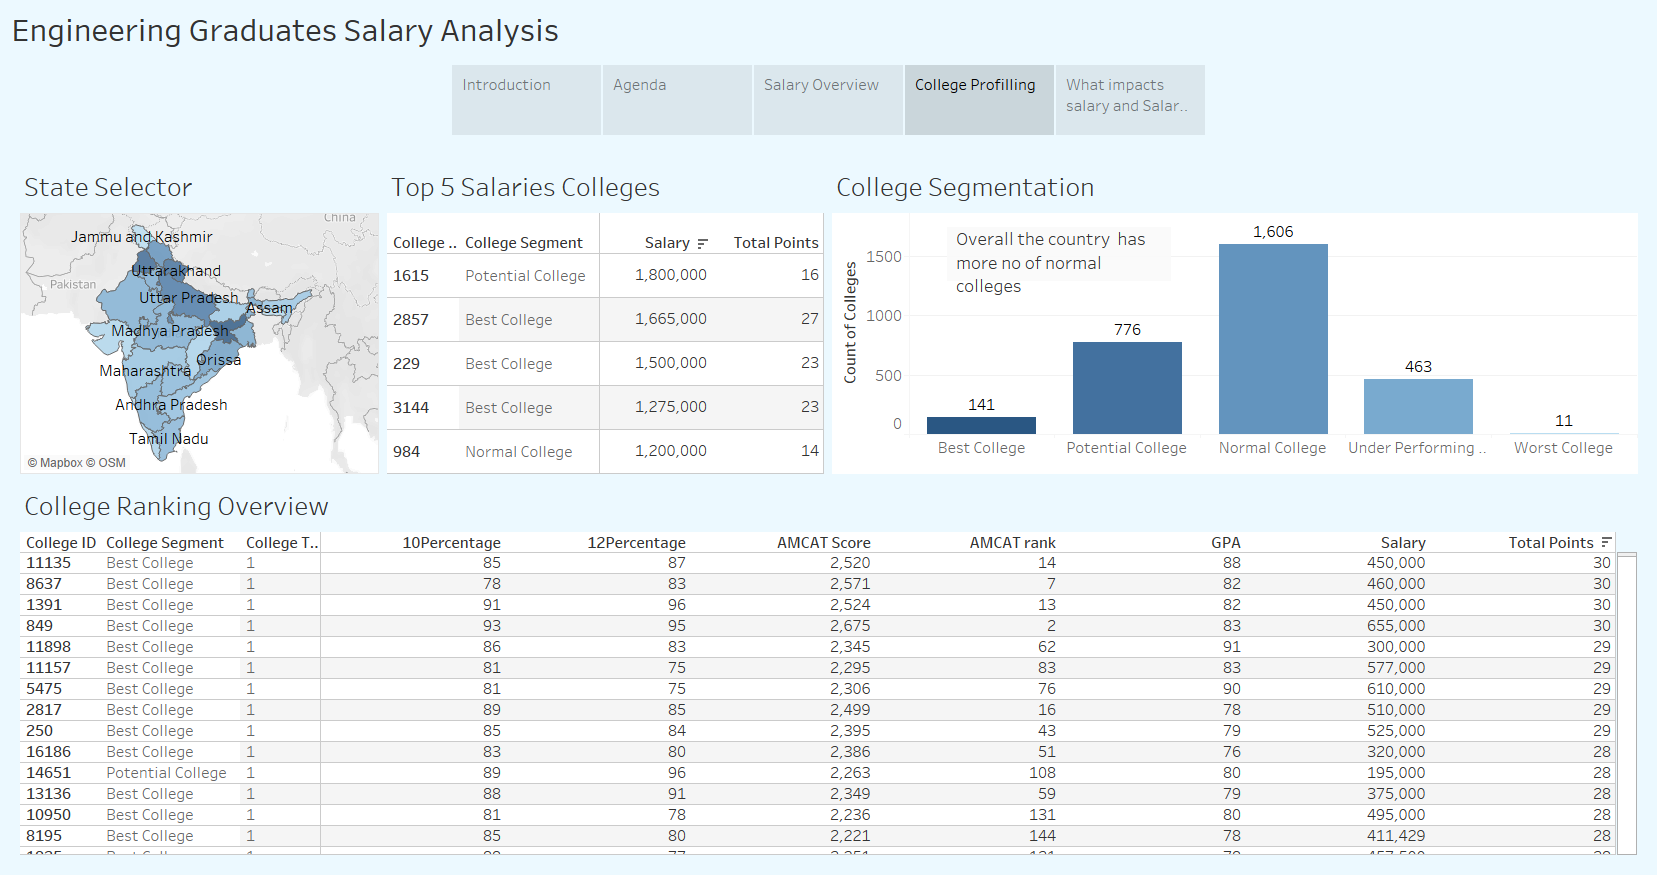

What the dashboard file says about the page in this screenshot:
{"tool":"tableau","page":{"name":"State & College Dashboard","canvas":[1000,1000],"units":"permille","ordinal":1},"visuals":[{"type":"worksheet","title":"State Selector","mark":"Multipolygon","box":[5.7,10.6,223.1,446.3]},{"type":"worksheet","title":"Top 5 Salaries Colleges","mark":"Automatic","rows":["CollegeID","Calculation_2632213259435749379"],"box":[228.7,10.6,270.9,446.3]},{"type":"worksheet","title":"College  Segment","mark":"Bar","rows":["CollegeID"],"cols":["Calculation_2632213259435749379"],"box":[499.6,10.6,494.8,446.3]},{"type":"worksheet","title":"College  table","mark":"Automatic","rows":["CollegeID","Calculation_2632213259435749379","CollegeTier"],"box":[5.7,456.9,988.7,532.5]}]}

Visuals, with their boxes on the dashboard's canvas, which has no fixed pixel size, in thousandths of its width and height (x1, y1, x2, y2). These are canvas units, not pixel positions in the 1657x875 screenshot, which may show the page scaled, cropped or inside an application window:
"State Selector" worksheet (Multipolygon marks): select_region(6, 11, 229, 457)
"Top 5 Salaries Colleges" worksheet: select_region(229, 11, 500, 457)
"College  Segment" worksheet (Bar marks): select_region(500, 11, 994, 457)
"College  table" worksheet: select_region(6, 457, 994, 989)
